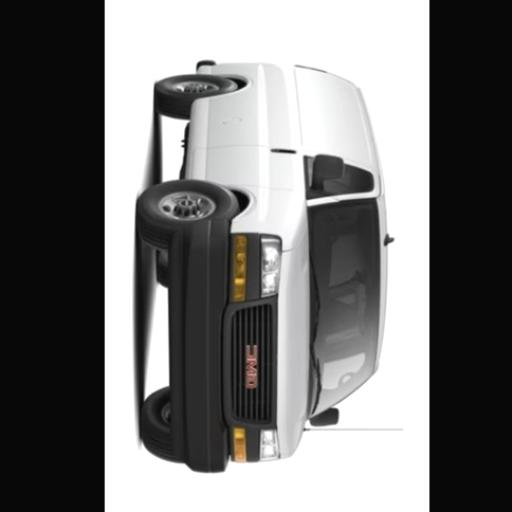van: (138, 62, 390, 472)
